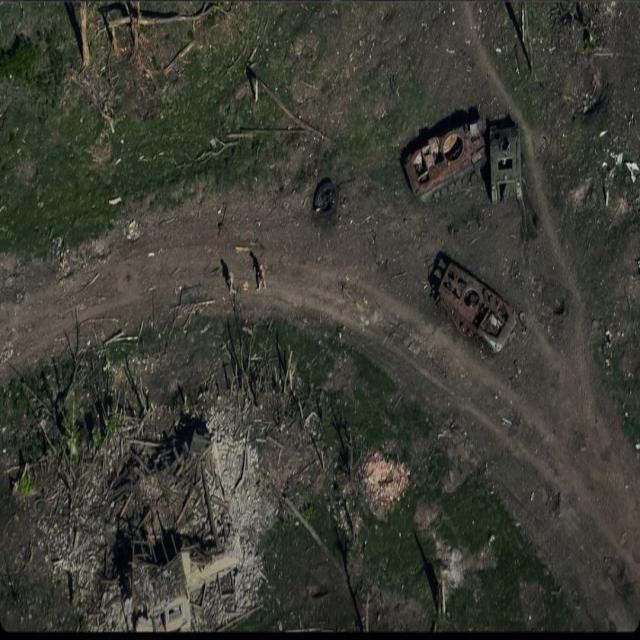APC: (491, 124, 525, 208)
Destroyed: (434, 266, 517, 359), (408, 122, 486, 204)
